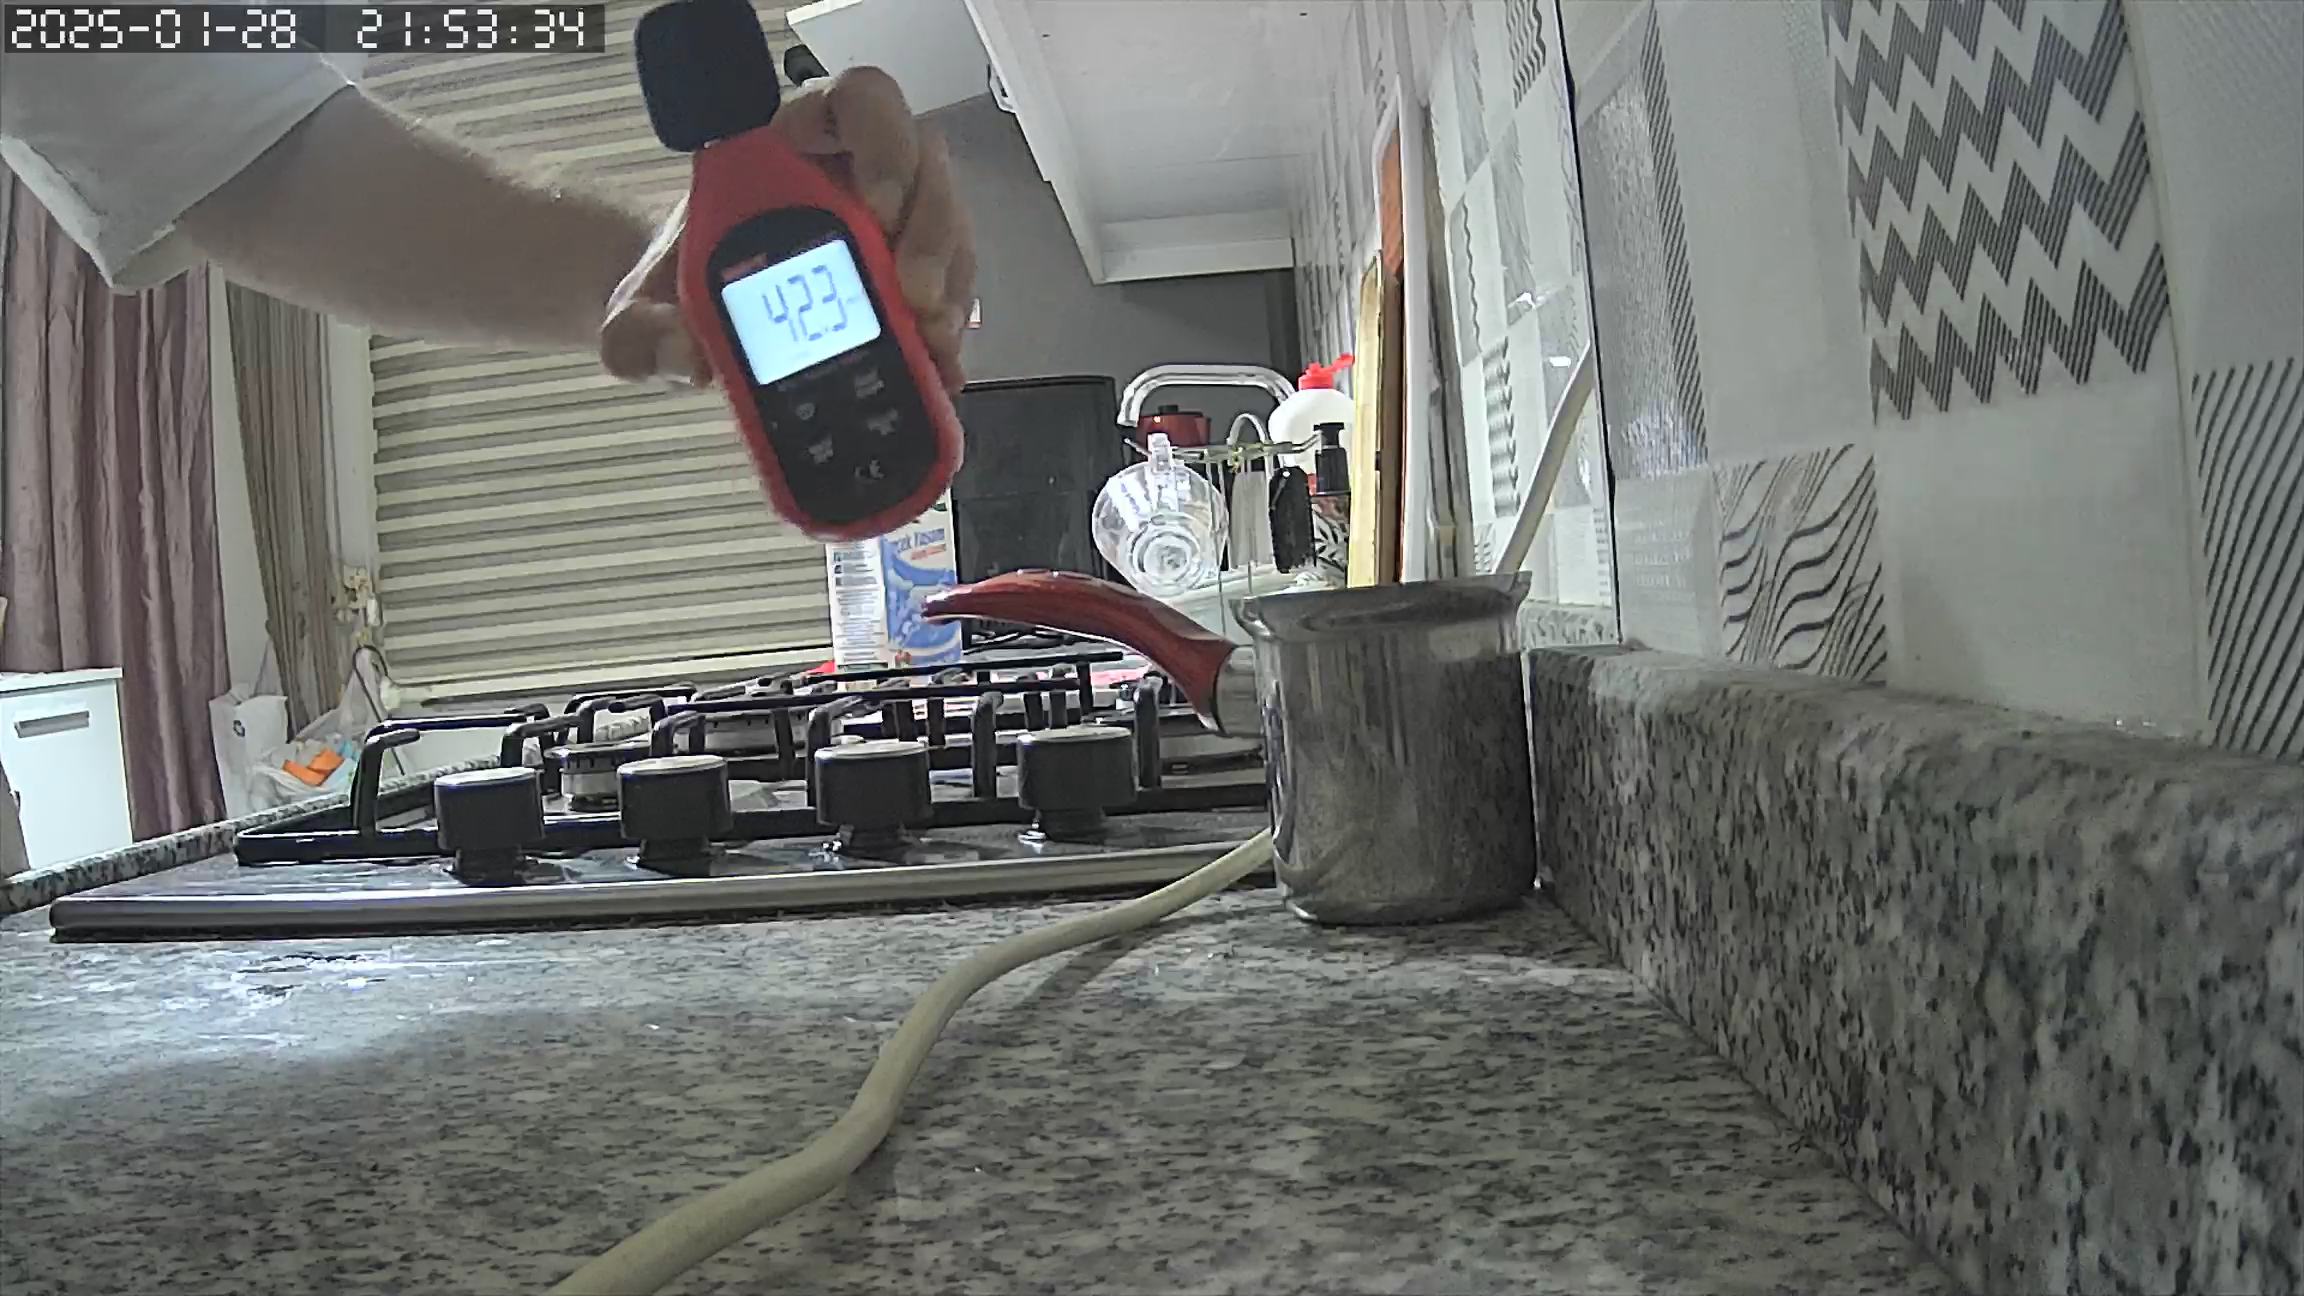screen: (720, 237, 881, 381)
